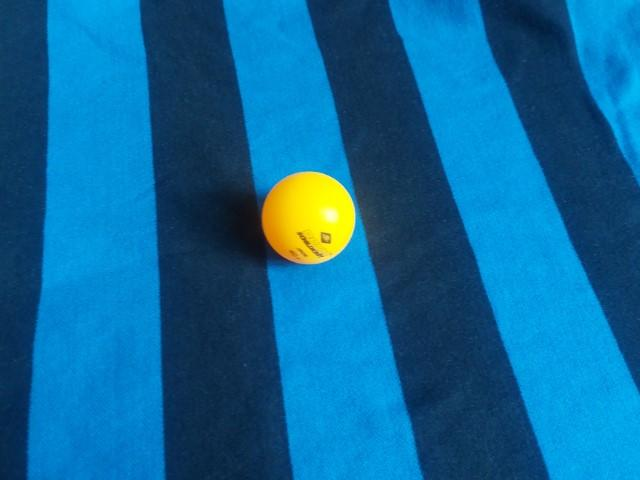oball: (255, 167, 363, 270)
